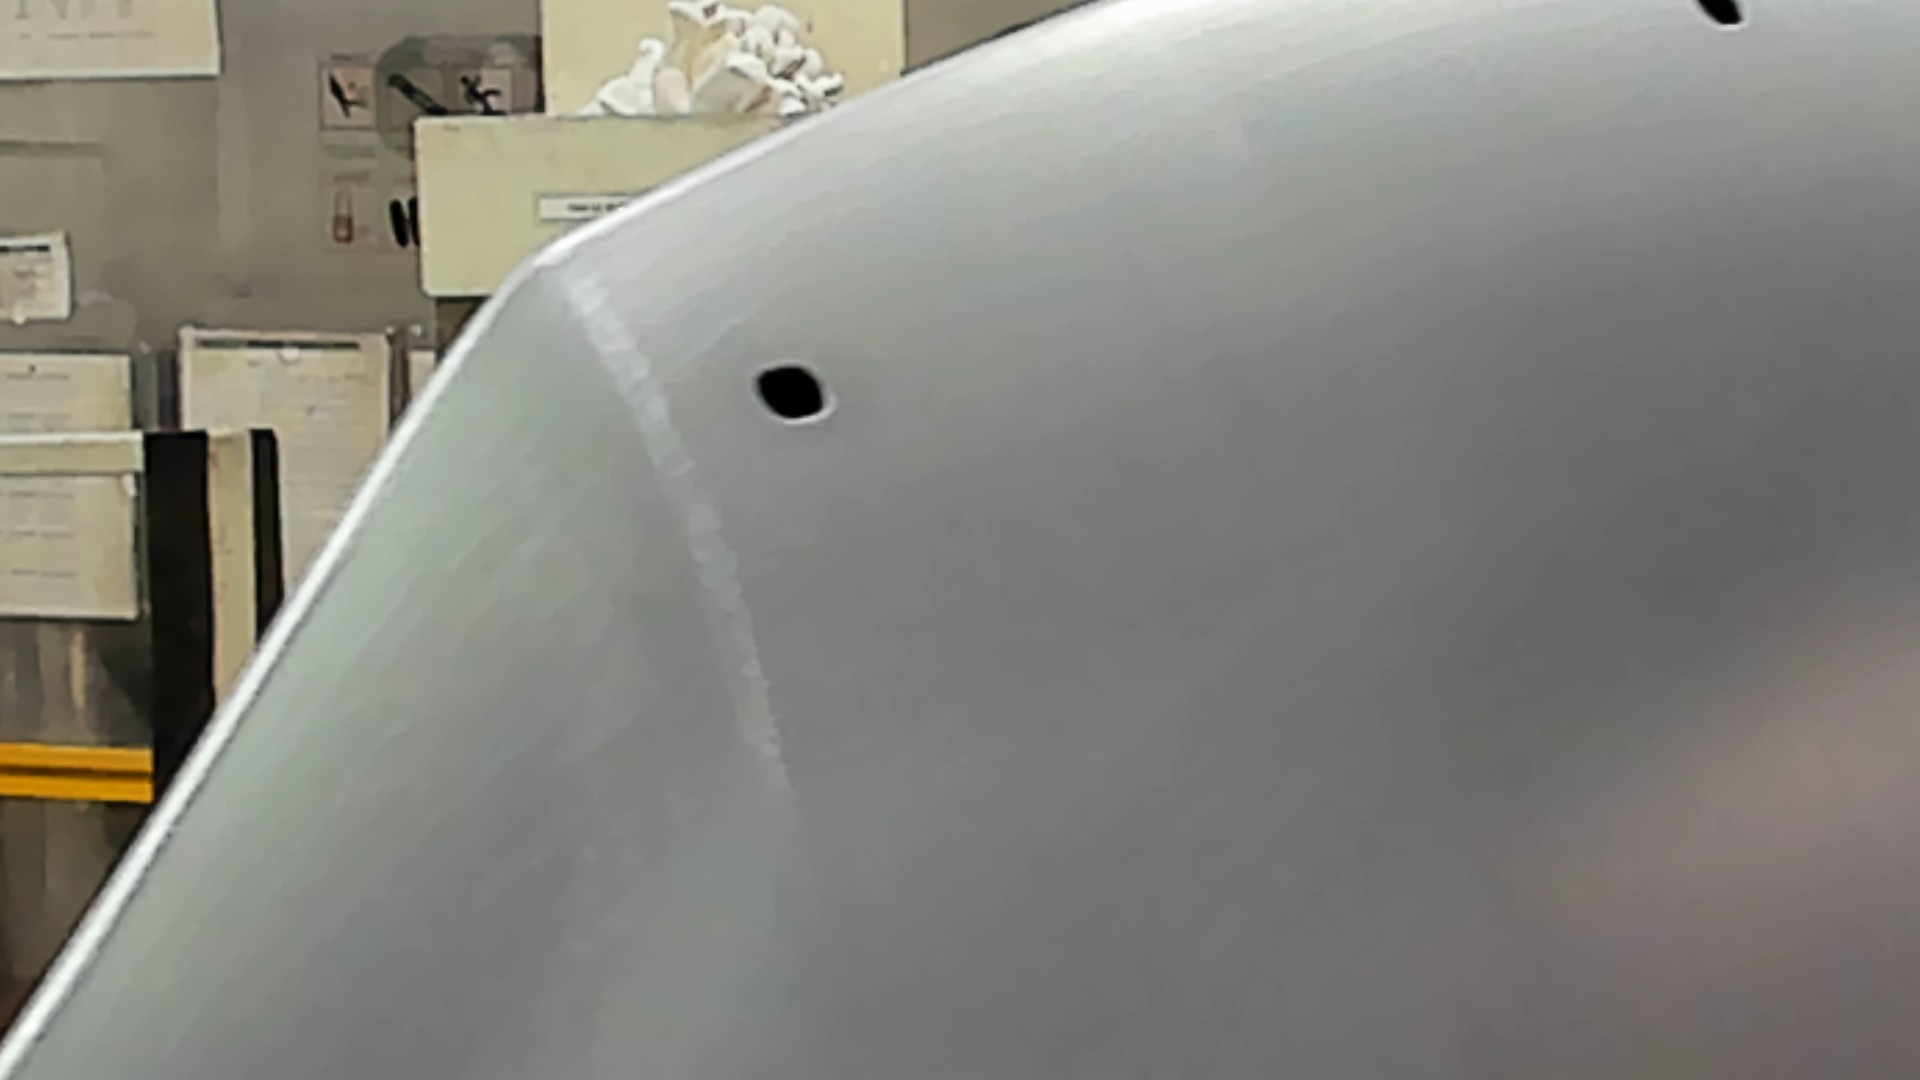amorfo: (746, 359, 835, 426), (1679, 1, 1766, 36)
capo: (957, 74, 1920, 1080)
